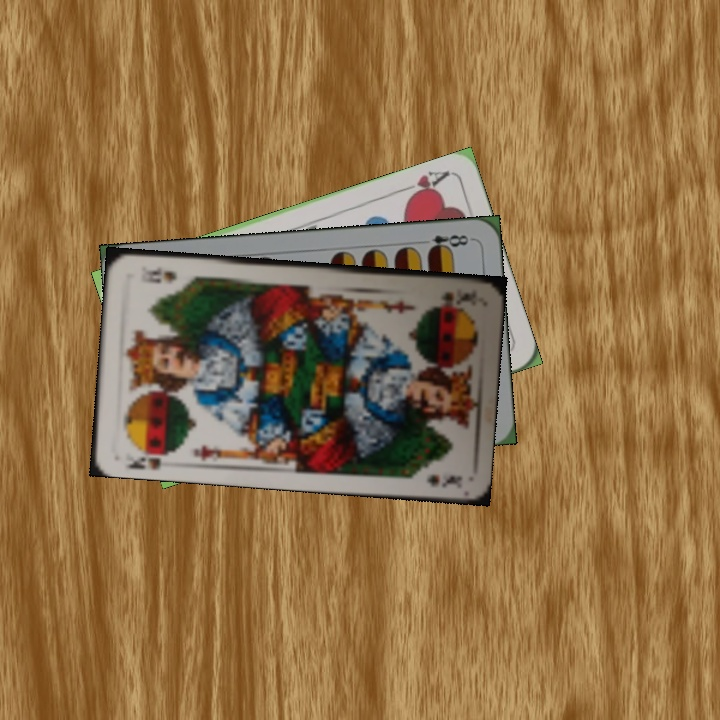E8: (415, 231, 474, 255)
HA: (395, 166, 453, 203)
SK: (120, 444, 176, 472), (437, 288, 473, 308)
